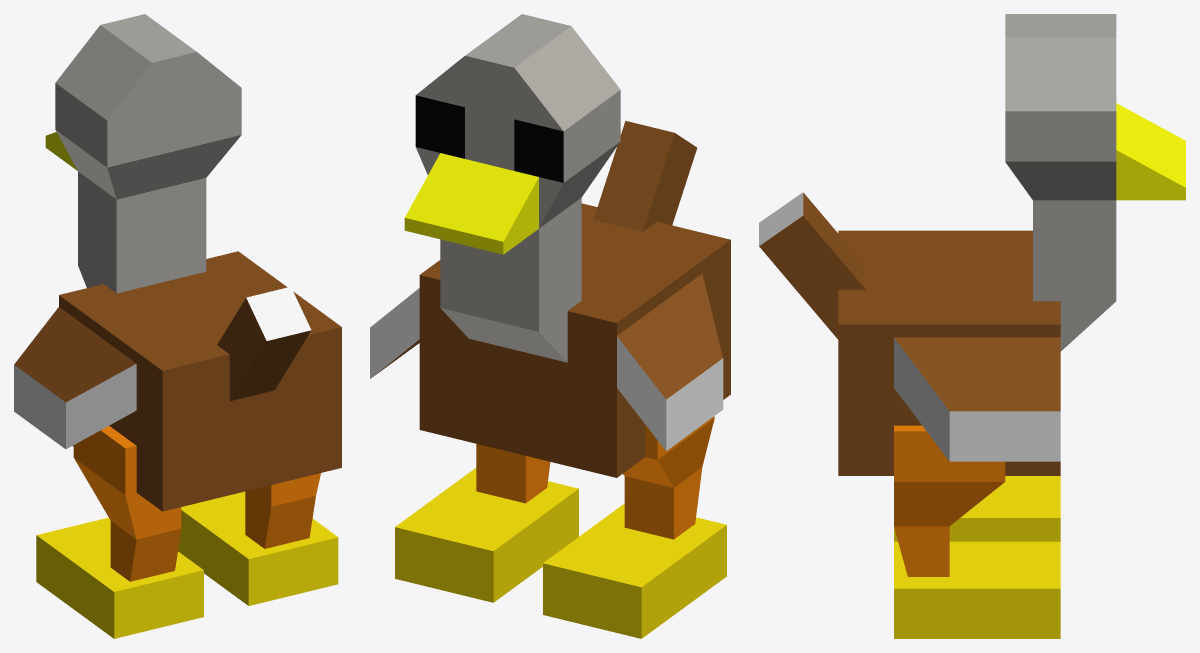
The model's file is ostrichfbx.fbx.
The picture shows the model from 3 angles, left to right: view 1: azimuth 30°, elevation 25°; view 2: azimuth 150°, elevation 25°; view 3: azimuth 270°, elevation 25°; orthographic projection. The views are drawn at different scales.
Parts seen in each view (by area): view 1: Body, Neck, left wing, left foot, right foot, left leg, Tail, right leg, Beak; view 2: Neck, Body, left foot, right foot, left wing, Beak, Tail, left leg, right leg, right wing; view 3: Neck, Body, right wing, right foot, right leg, Tail, left foot, Beak.
Part boxes in pixels (x1,y1,x2,y2): Body: (59,251,341,511); Neck: (55,14,241,293); left wing: (14,307,136,449); left foot: (36,517,203,638); right foot: (178,491,338,605); left leg: (73,426,181,581); Tail: (217,286,311,401); right leg: (245,473,320,548); Beak: (45,132,77,170); Neck: (415,14,620,362); Body: (419,203,730,477); left foot: (543,503,726,638); right foot: (395,468,578,602); left wing: (567,274,723,451); Beak: (404,153,538,254); Tail: (593,121,696,231); left leg: (623,416,714,539); right leg: (476,444,550,503); right wing: (370,288,468,378); Neck: (1005,14,1116,351); Body: (838,230,1060,475); right wing: (894,337,1060,461); right foot: (894,541,1060,638); right leg: (894,425,1005,576); Tail: (759,192,865,339); left foot: (894,476,1060,541); Beak: (1116,103,1185,200).
Size of the model in its own units: 37.5 by 68.75 by 47.97.
Materials: 1 (1 with a texture image).
